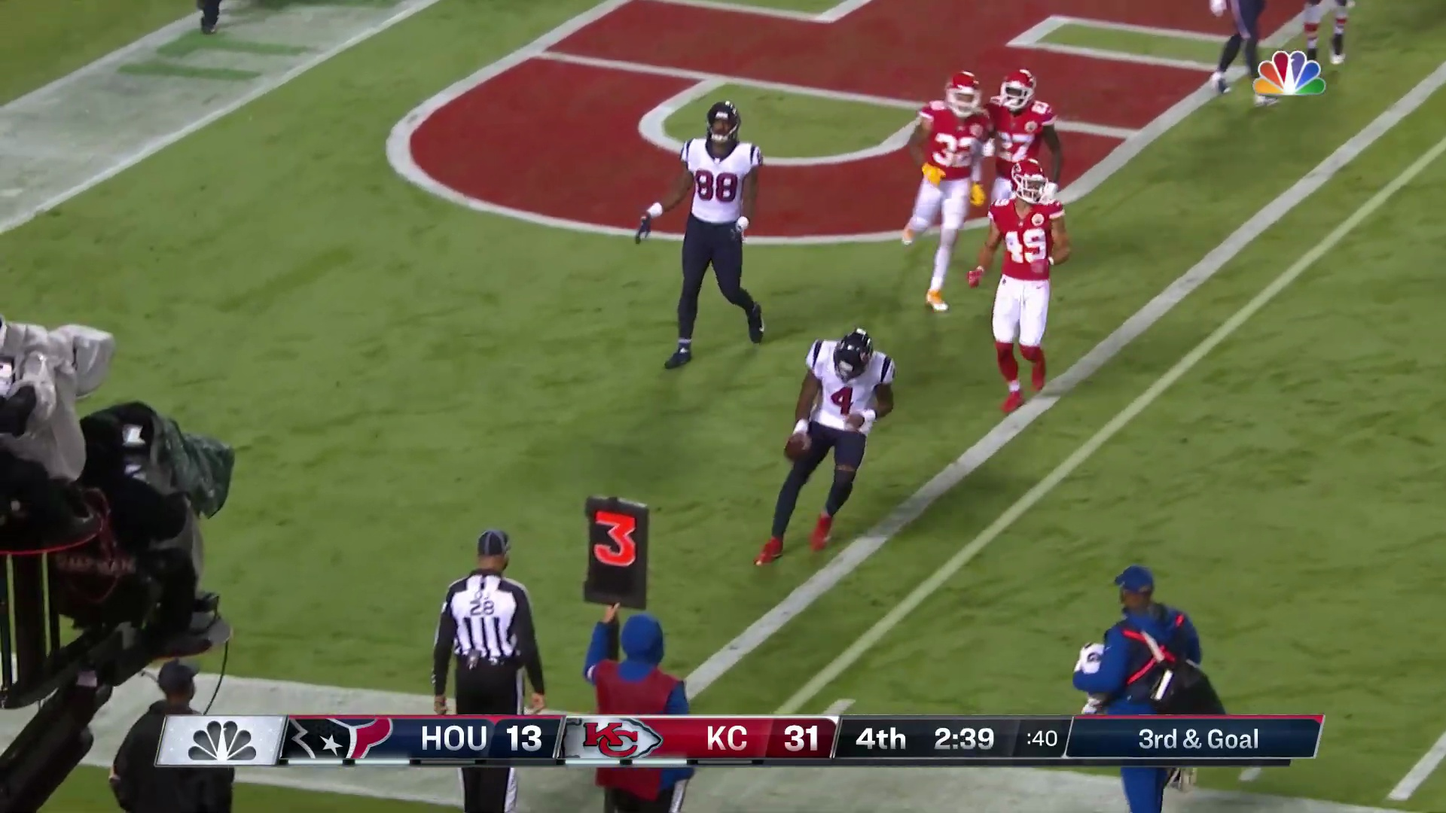Player: (78, 403, 196, 579), (988, 160, 1065, 408), (913, 71, 988, 307), (0, 322, 113, 478)
